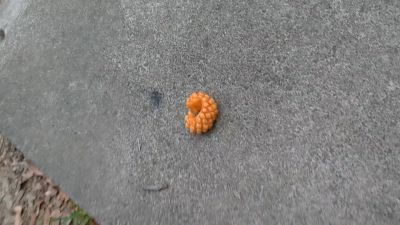eggs: (184, 91, 219, 137)
